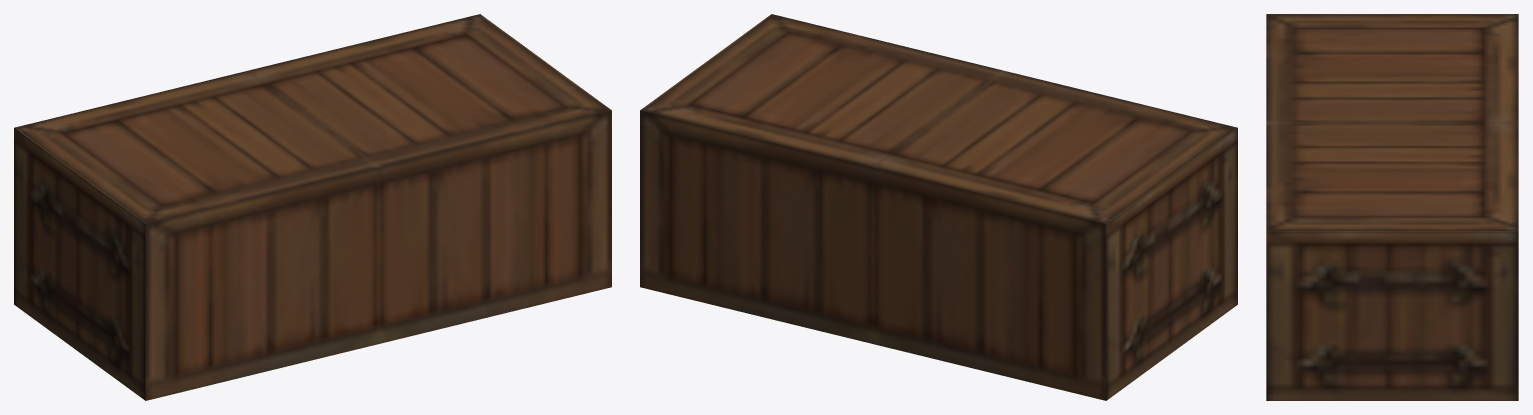
File: 2_YiZhan_ZaWu_MuXiang_02.FBX
The picture shows the model from 3 angles, left to right: view 1: azimuth 30°, elevation 25°; view 2: azimuth 150°, elevation 25°; view 3: azimuth 270°, elevation 25°; orthographic projection. The views are drawn at different scales.
Parts seen in each view (by area): view 1: 2_YiZhan_ZaWu_MuXiang_02; view 2: 2_YiZhan_ZaWu_MuXiang_02; view 3: 2_YiZhan_ZaWu_MuXiang_02.
Part boxes in pixels (x1,y1,x2,y2): 2_YiZhan_ZaWu_MuXiang_02: [14, 14, 611, 400]; 2_YiZhan_ZaWu_MuXiang_02: [640, 14, 1237, 400]; 2_YiZhan_ZaWu_MuXiang_02: [1266, 14, 1518, 400].
Bounding box in the file's own units: 173 × 62.53 × 84.38.
